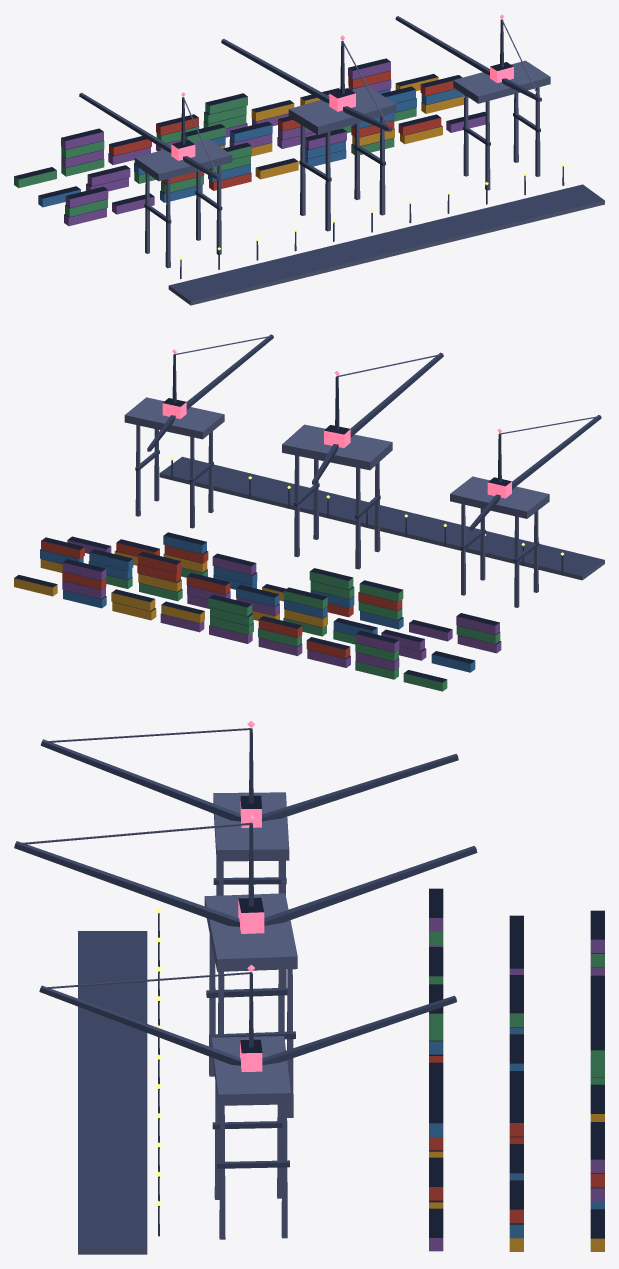
The model's file is W1_Mid_PortCranes.fbx.
3 renders of one model, top to bottom at view 1: azimuth 30°, elevation 25°; view 2: azimuth 150°, elevation 25°; view 3: azimuth 270°, elevation 25°, orthographic. The views are drawn at different scales.
Visible parts, largest first — view 1: W1_Mid_PortCranes; view 2: W1_Mid_PortCranes; view 3: W1_Mid_PortCranes.
Part boxes in pixels (x1=…): W1_Mid_PortCranes: x1=14, y1=14, x2=604, y2=305; W1_Mid_PortCranes: x1=14, y1=334, x2=604, y2=691; W1_Mid_PortCranes: x1=14, y1=720, x2=604, y2=1254.
Bounding box in the file's own units: 133 × 53.8 × 102.
